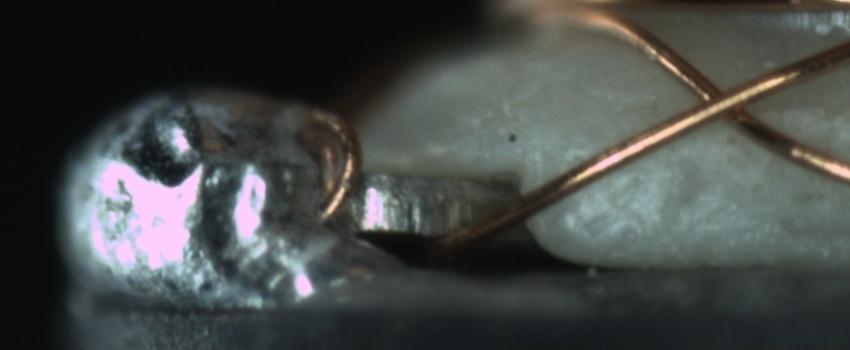CL: (673, 65, 777, 136)
DL: (568, 131, 694, 174)
TE: (282, 97, 364, 234)
